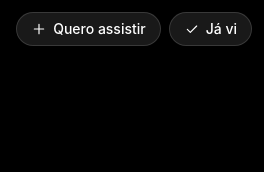
Test: MarkButtons desabilita os dois botões enquanto salva
Click the button "Quero assistir": {"x": 88, "y": 29} [16, 12, 161, 46]
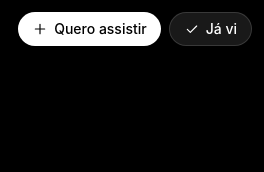
Expected: the button "Já vi" is disabled, [169, 12, 252, 46]
Result: the button "Quero assistir" is disabled at [18, 12, 161, 46]
